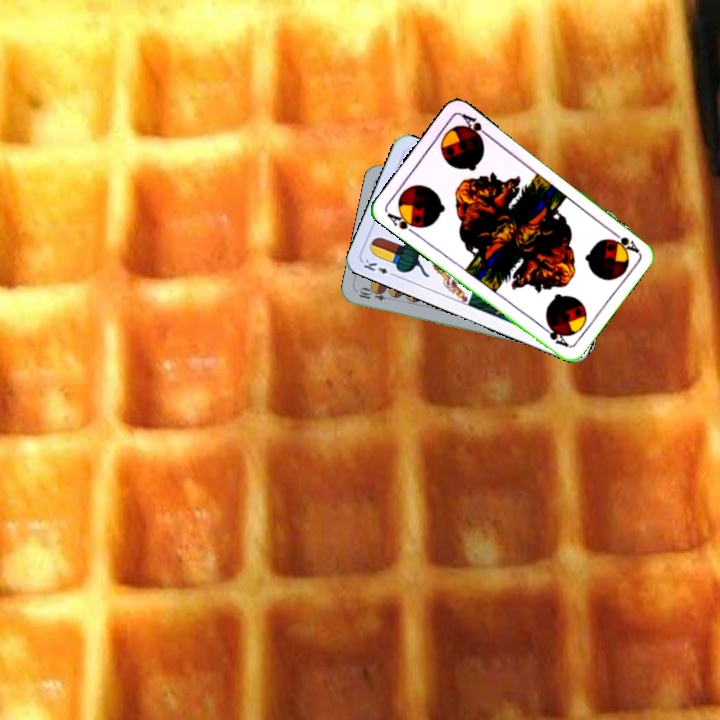E10: (355, 286, 396, 304)
EK: (359, 255, 399, 279)
SA: (383, 206, 422, 237), (606, 226, 642, 255)
